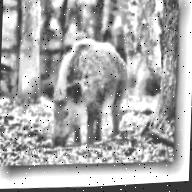boar: (47, 21, 137, 157)
